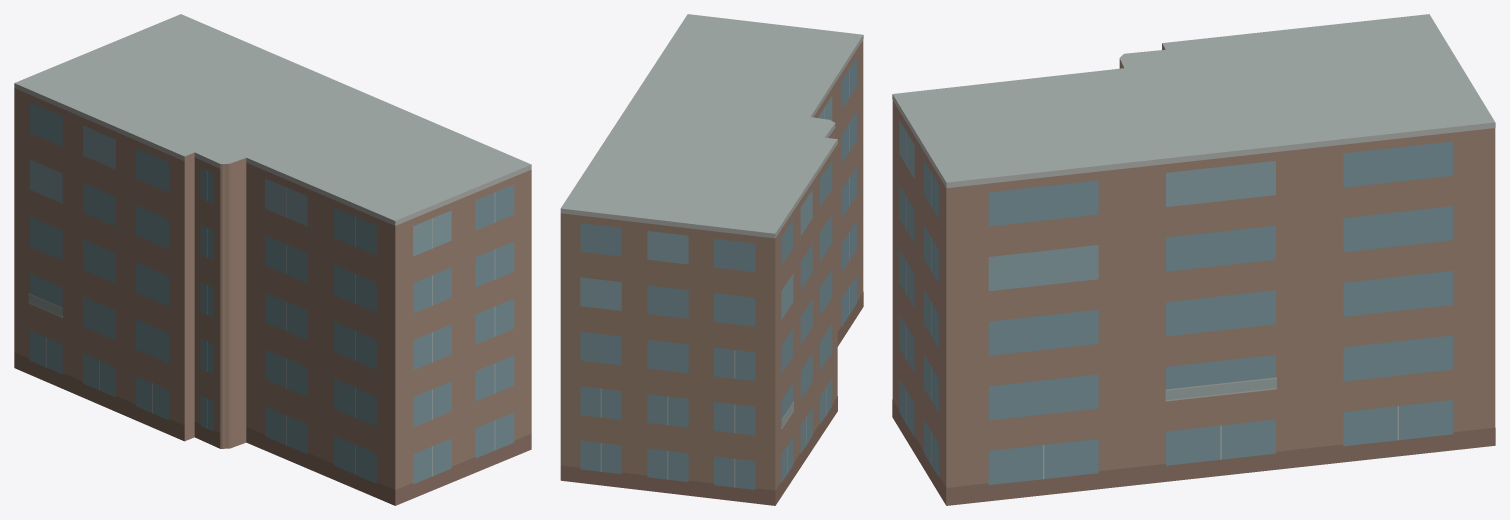
Rendered from survey-upis-32648686.glb.
The picture shows the model from 3 angles, left to right: view 1: azimuth 30°, elevation 25°; view 2: azimuth 150°, elevation 25°; view 3: azimuth 270°, elevation 25°; orthographic projection. The views are drawn at different scales.
Parts seen in each view (by area): view 1: survey-upis-32648686.tmp; view 2: survey-upis-32648686.tmp; view 3: survey-upis-32648686.tmp.
Part boxes in pixels (bbox=[...]): survey-upis-32648686.tmp: bbox=[14, 14, 531, 505]; survey-upis-32648686.tmp: bbox=[560, 14, 863, 505]; survey-upis-32648686.tmp: bbox=[892, 14, 1495, 505].
Bounding box in the file's own units: 15.9 × 14.2 × 24.02.
